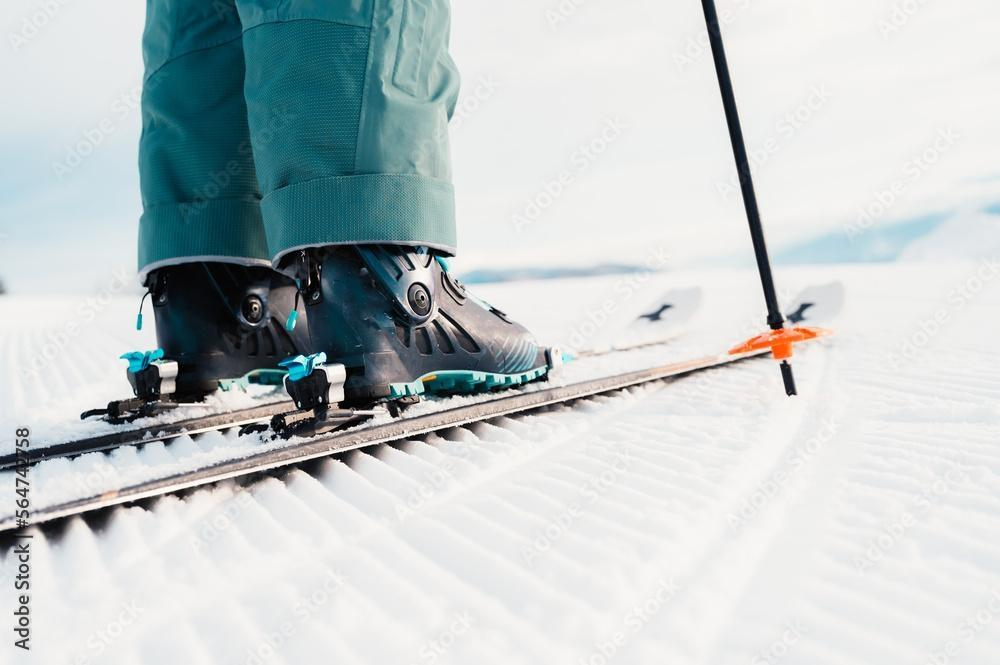Skis: (48, 282, 800, 538)
